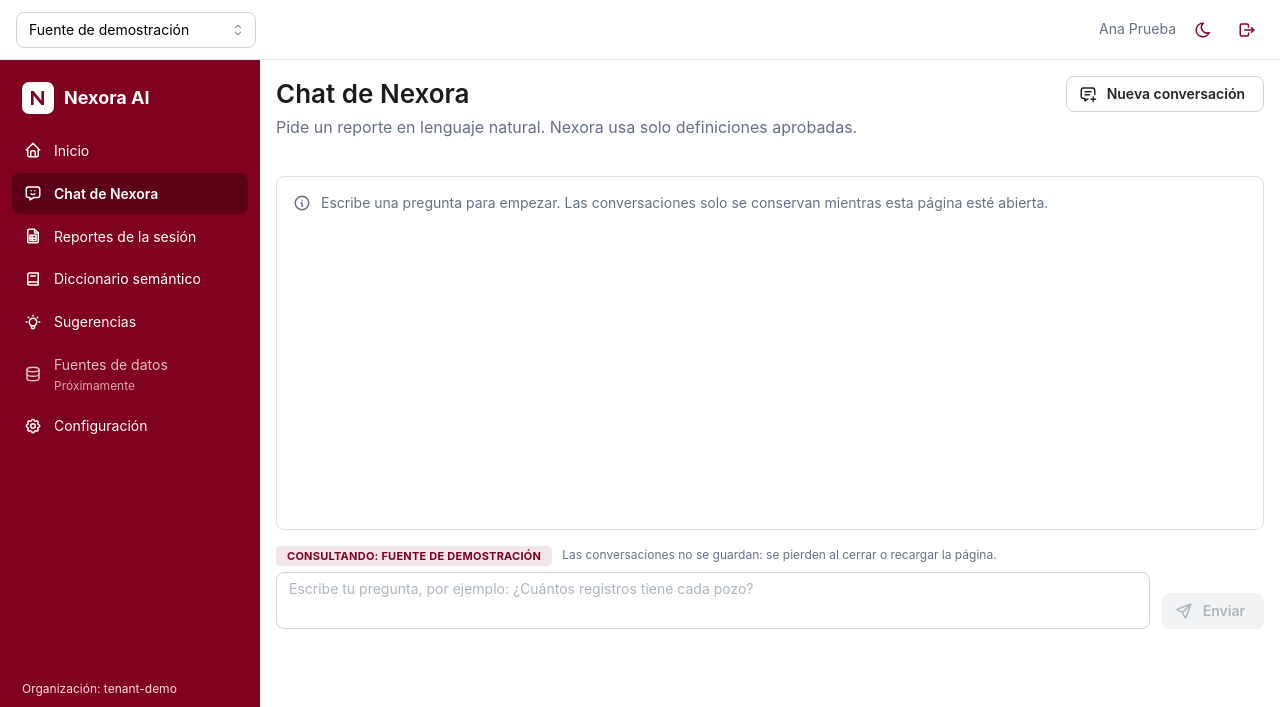
Test: chat with Nexora (F2/F3/F4 flows, synthetic) › DEC-D-FE-1: local_only and authentication_required get a neutral text; the cause only for diagnostics users
In the text box labelled "Escribe tu pregunta": (713, 600) [276,572,1150,629], type "Total"
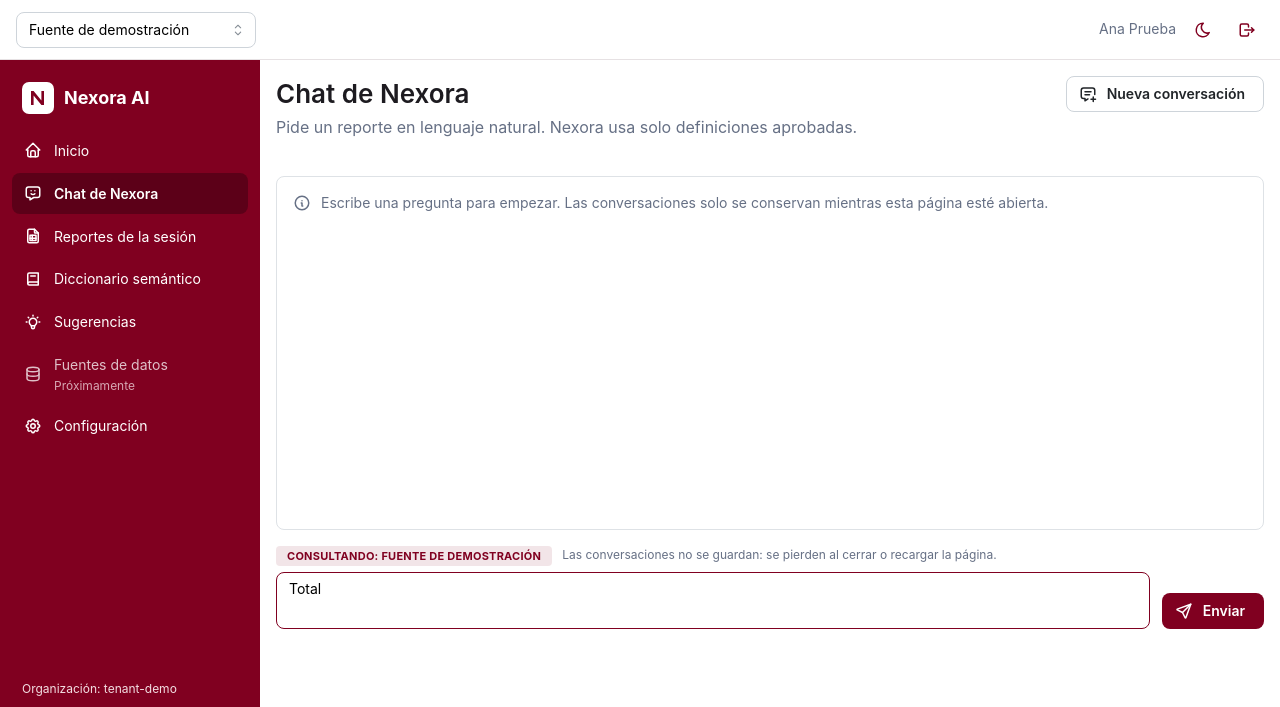
Click the button "Enviar": (1213, 611) [1162,593,1264,629]
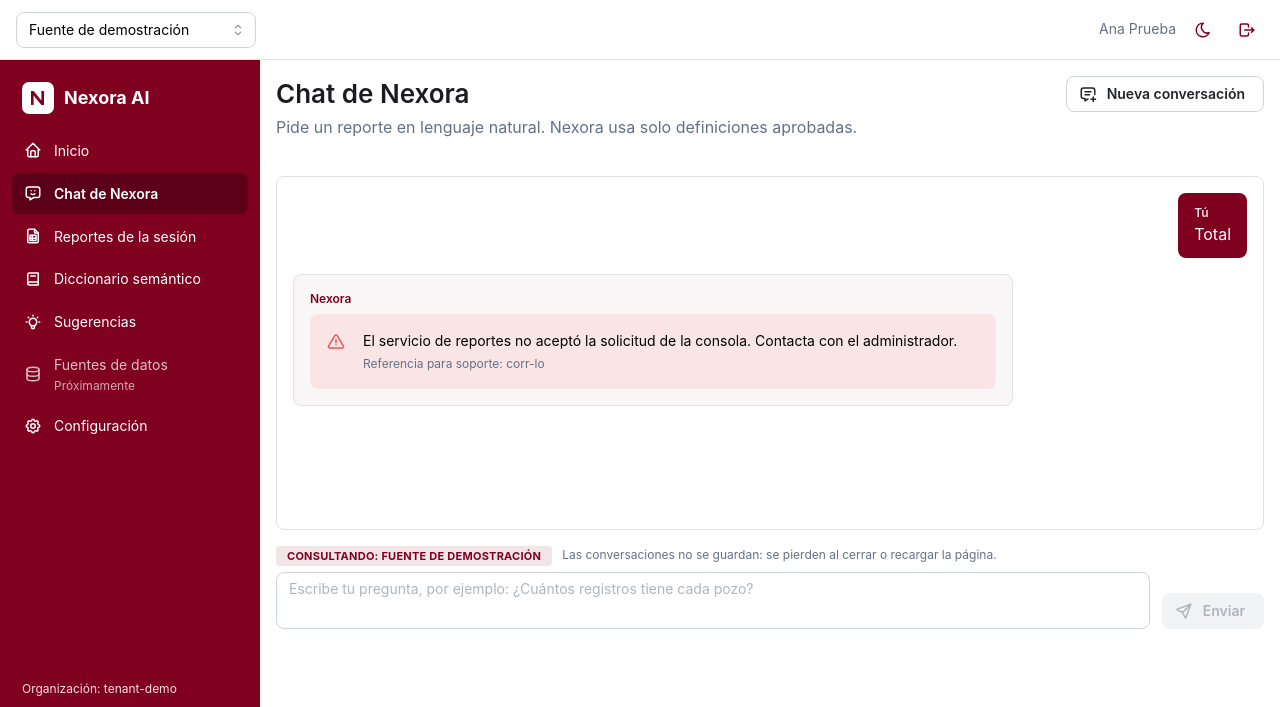
Check: the text "no aceptó la solicitud de la consola" is shown, box [363,332,957,349]
Check: the text "Referencia para soporte: corr-lo" is shown, box [363,356,545,371]
In the text box labelled "Escribe tu pregunta": (713, 600) [276,572,1150,629], type "Otra"
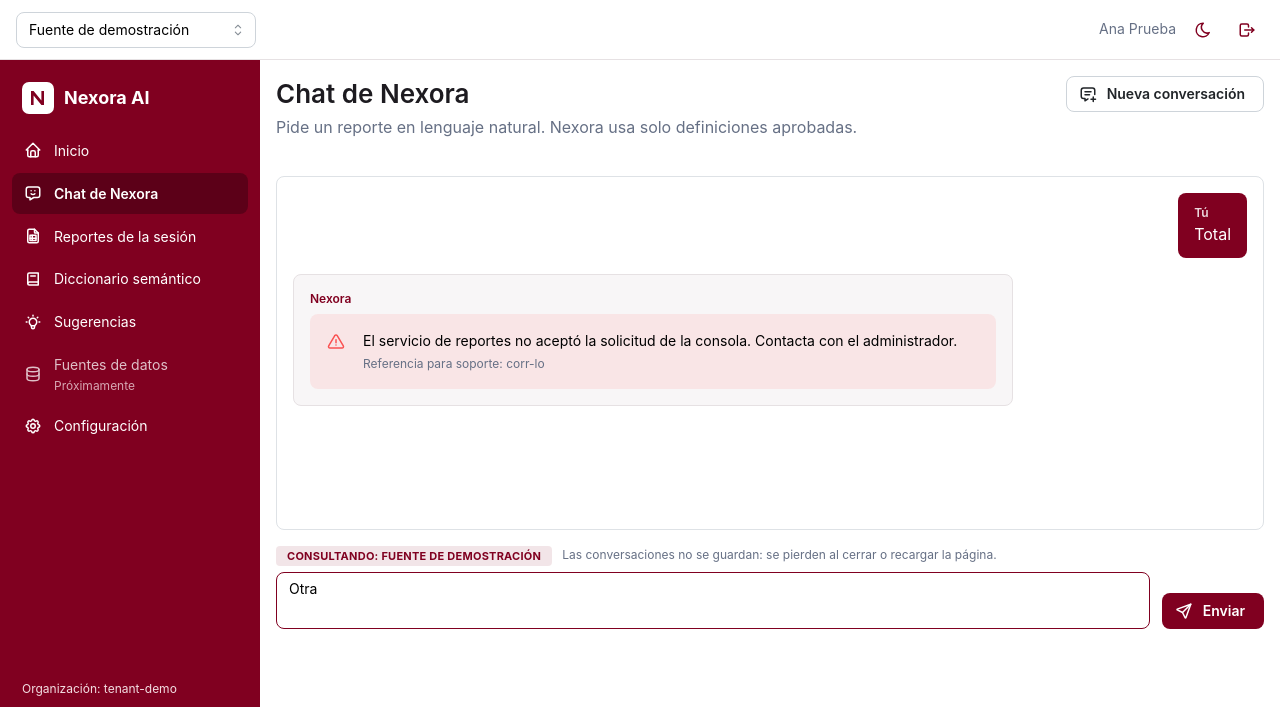
Click the button "Enviar": (1213, 611) [1162,593,1264,629]
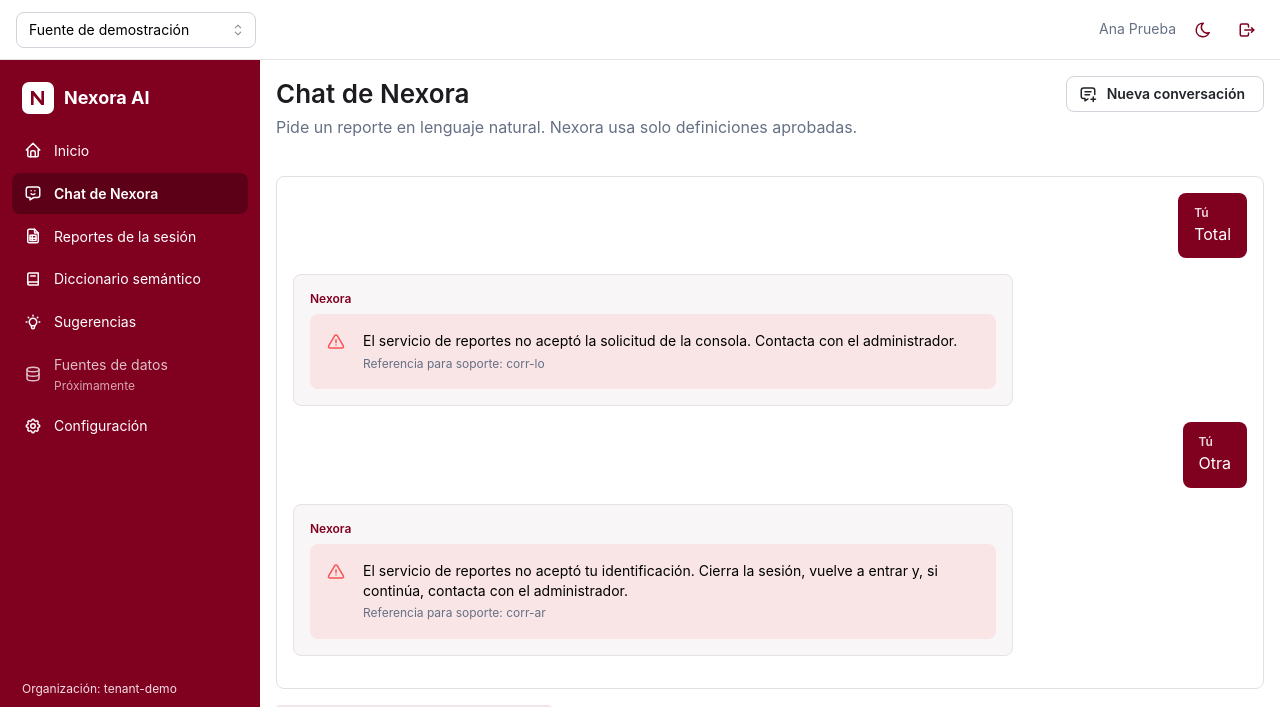
Check: the text "no aceptó tu identificación" is shown, box [363,562,938,599]
